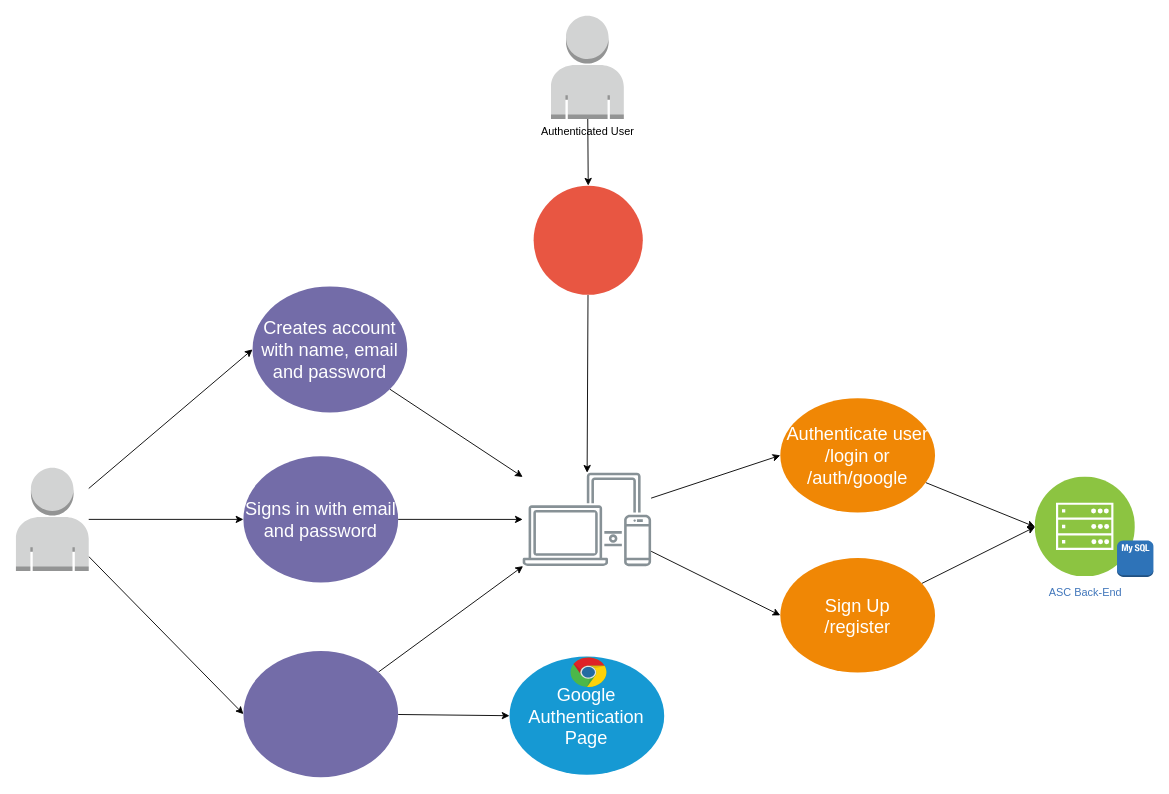
This 1169x794 diagram has some shape labels left out. The centre of each missing label's shape, as x and y in pixels:
"ASC Front-End" belongs at (586,519).
"Sign Out" belongs at (587,239).
"Signs in with Google account" belongs at (320,714).
"User" belongs at (52,519).
